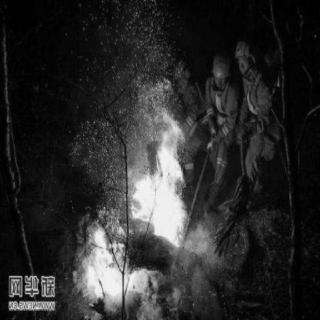Fire: (87, 77, 185, 301)
